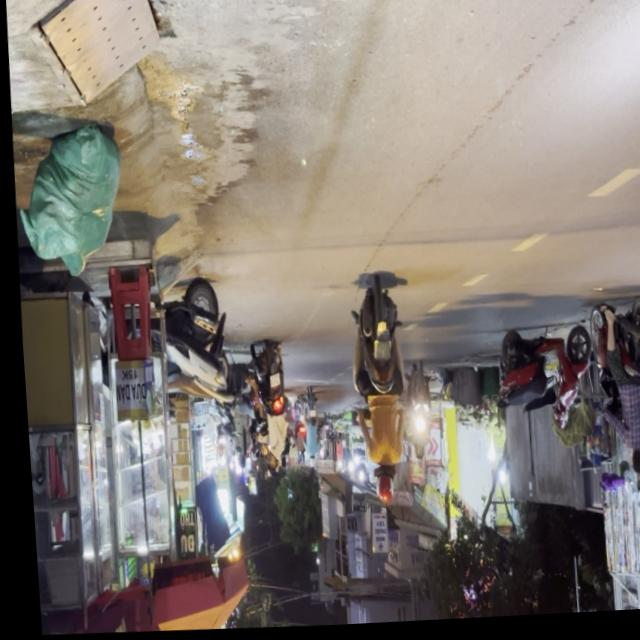helmet: (369, 471, 391, 508)
licenseplate: (339, 280, 411, 511), (580, 297, 640, 487)
motorcyclist: (624, 457, 640, 483)
nohelmet: (369, 344, 386, 364)
